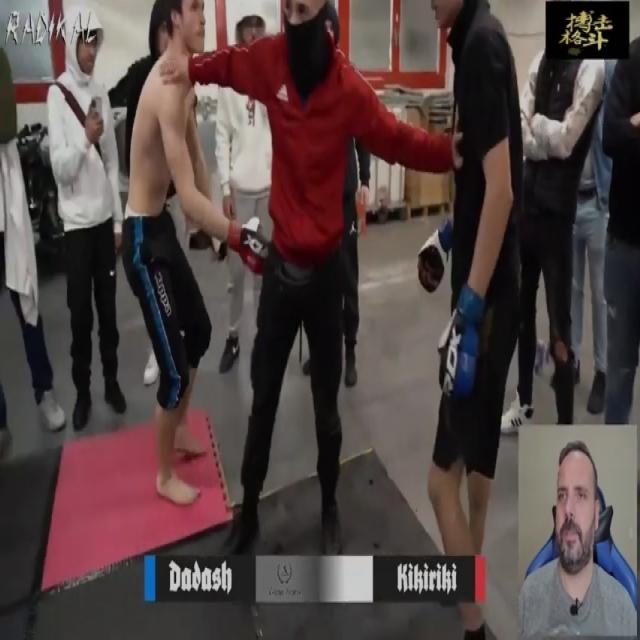non-fight: (159, 0, 464, 560), (122, 0, 274, 505), (415, 0, 526, 640), (46, 7, 127, 430)
